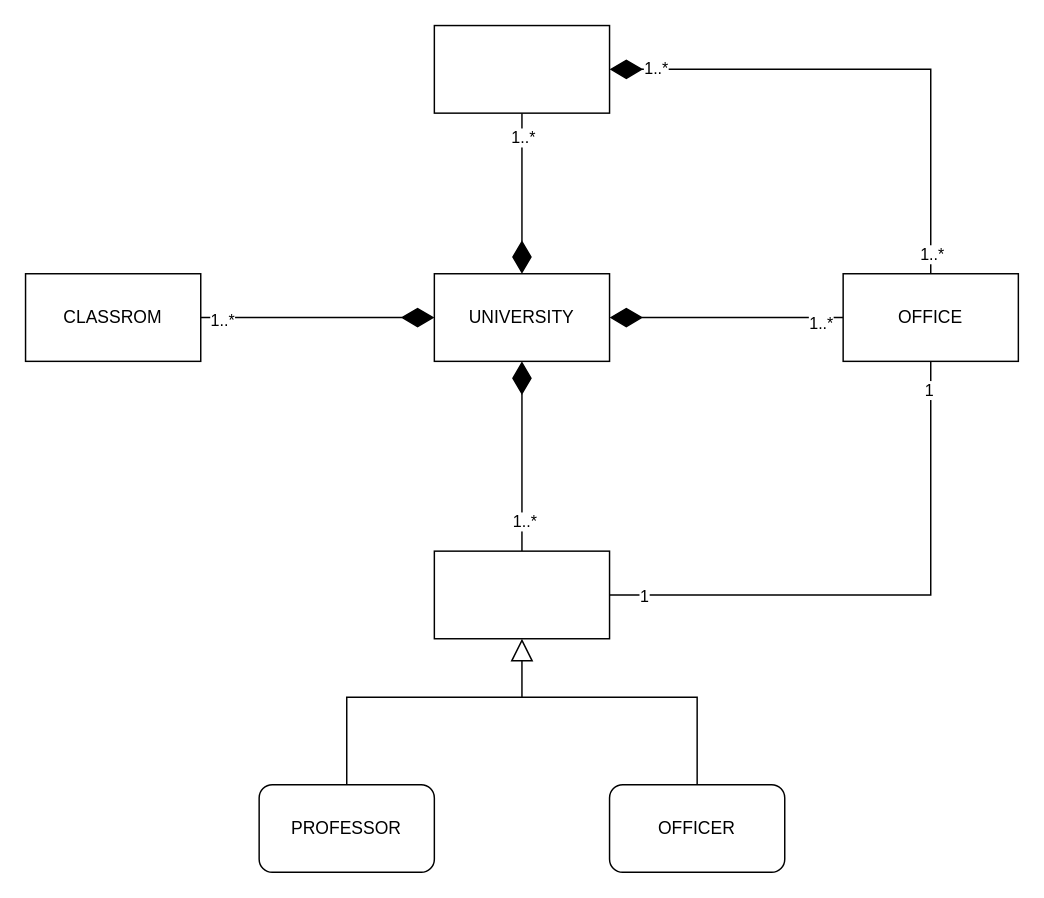
The diagram is 1044 pixels wide and 898 high, and some of its shapes have lost their labels. Each missing label, with the box of its shape:
DEPARTMENT: (433, 24, 610, 113)
EMPLOYEE: (433, 550, 610, 639)
